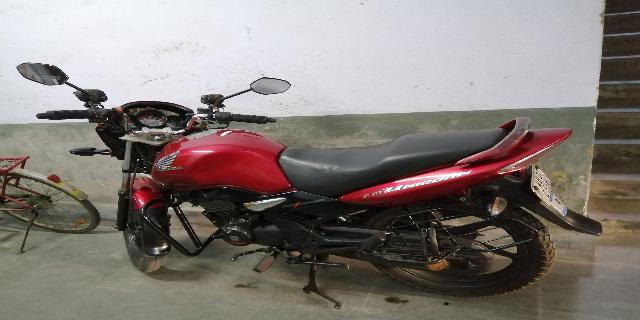Cycle: (1, 154, 107, 243)
Motorbike: (83, 52, 606, 287)
